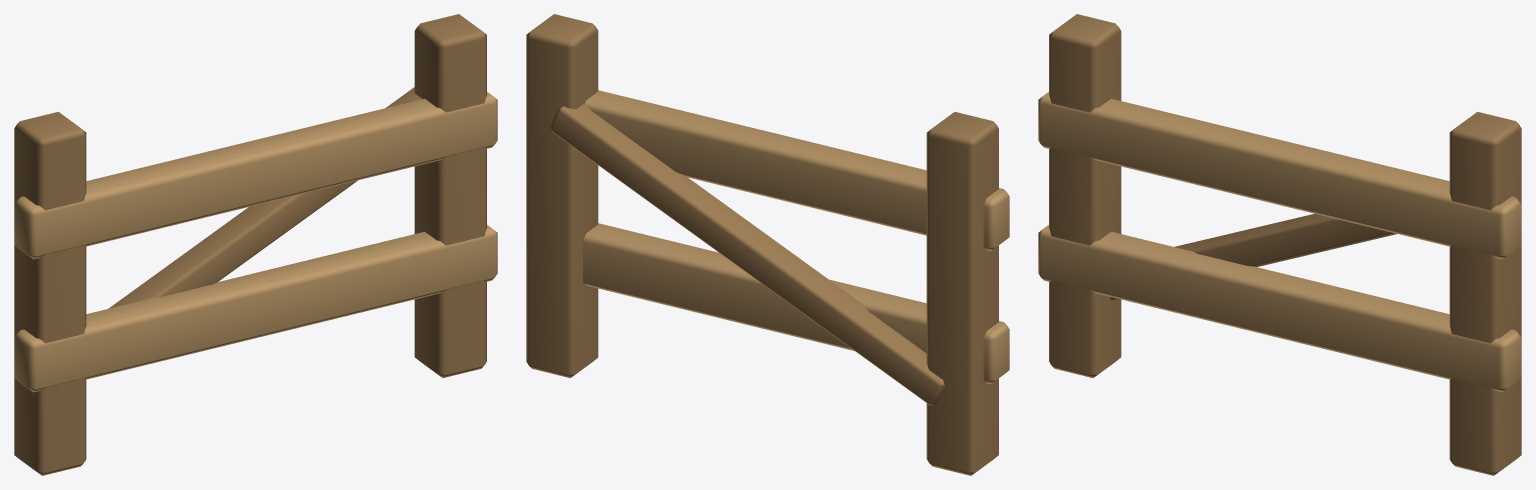
Rendered from prop_breakable_fence.glb.
3 renders of one model, left to right at view 1: azimuth 30°, elevation 25°; view 2: azimuth 150°, elevation 25°; view 3: azimuth 330°, elevation 25°, orthographic.
Visible parts, largest first — view 1: fence cross beam.001, fence cross beam, fence post, fence post.001, diagonal brace; view 2: fence post, fence post.001, fence cross beam.001, diagonal brace, fence cross beam; view 3: fence cross beam.001, fence cross beam, fence post.001, fence post, diagonal brace.
Part boxes in pixels (x1,y1,x2,y2): fence cross beam.001: (14, 92, 497, 259); fence cross beam: (14, 225, 497, 392); fence post: (14, 111, 86, 475); fence post.001: (414, 14, 486, 377); diagonal brace: (109, 87, 422, 308); fence post: (926, 112, 998, 475); fence post.001: (526, 14, 598, 378); fence cross beam.001: (585, 90, 1009, 251); diagonal brace: (550, 103, 944, 405); fence cross beam: (583, 223, 1009, 384); fence cross beam.001: (1038, 92, 1521, 259); fence cross beam: (1038, 225, 1521, 392); fence post.001: (1449, 111, 1521, 475); fence post: (1049, 14, 1121, 377); diagonal brace: (1110, 213, 1396, 301).
Bounding box in the file's own units: 1.22 × 0.84 × 0.15.
